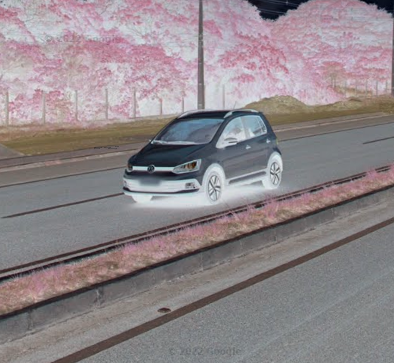car: (123, 102, 285, 207)
